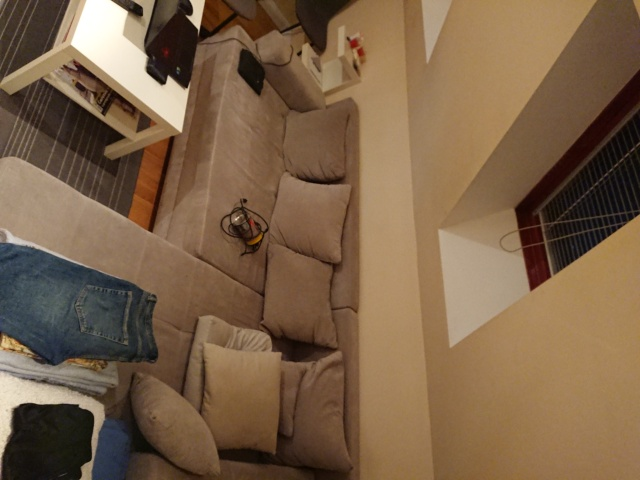Nescafe Classic 225g: (229, 212, 266, 248)
